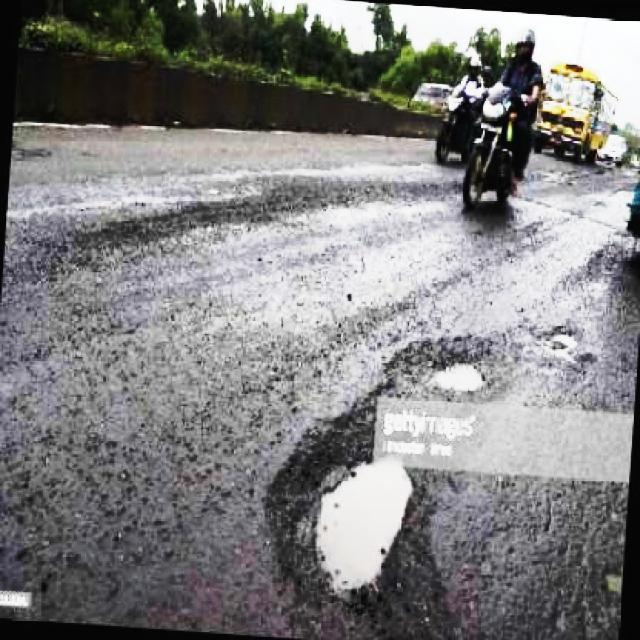pothole: (260, 401, 425, 614), (385, 318, 506, 409), (543, 323, 594, 371)
